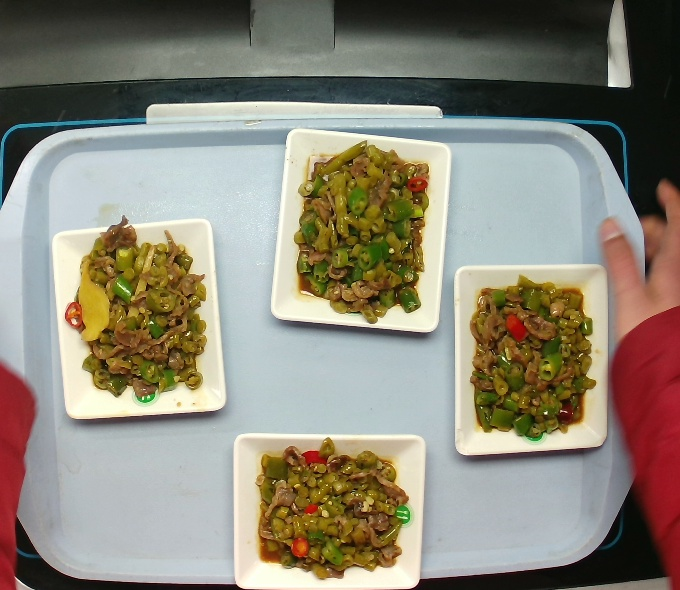wcq-SuanDouJiaoChaoJiZhen: (54, 216, 221, 406), (286, 142, 438, 319), (249, 436, 414, 589), (459, 276, 596, 437)
